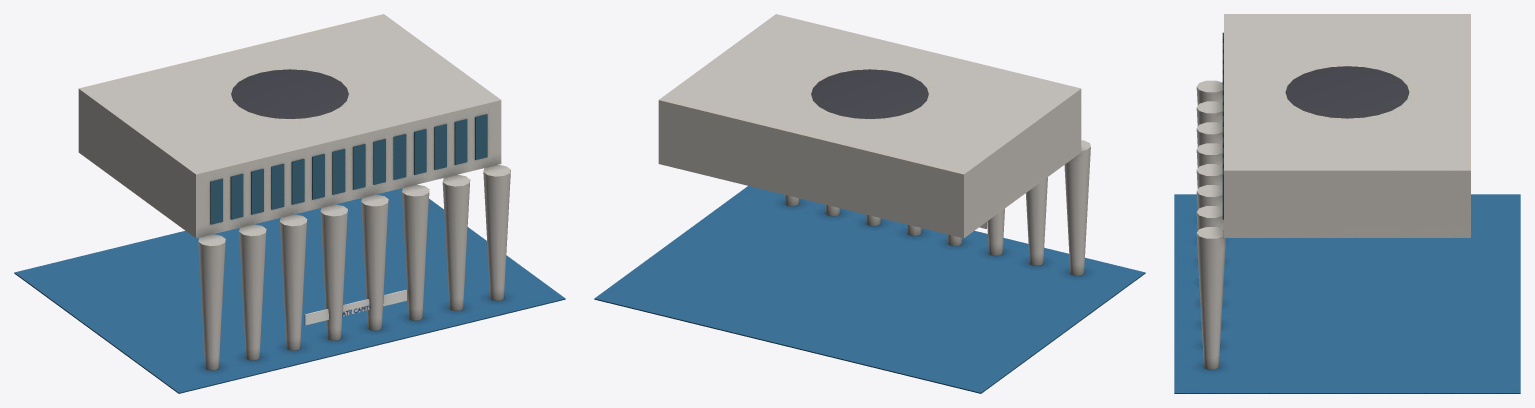
The model's file is capitolio_hawaii.glb.
3 renders of one model, left to right at view 1: azimuth 30°, elevation 25°; view 2: azimuth 150°, elevation 25°; view 3: azimuth 270°, elevation 25°, orthographic. The views are drawn at different scales.
Visible parts, largest first — view 1: capitolio_hawaii; view 2: capitolio_hawaii; view 3: capitolio_hawaii.
Part boxes in pixels (x1,y1,x2,y2): capitolio_hawaii: [14, 14, 565, 393]; capitolio_hawaii: [594, 14, 1145, 393]; capitolio_hawaii: [1174, 14, 1520, 393].
Size of the model in its own units: 38 by 18.15 by 28.
1 material, 1 textured.
